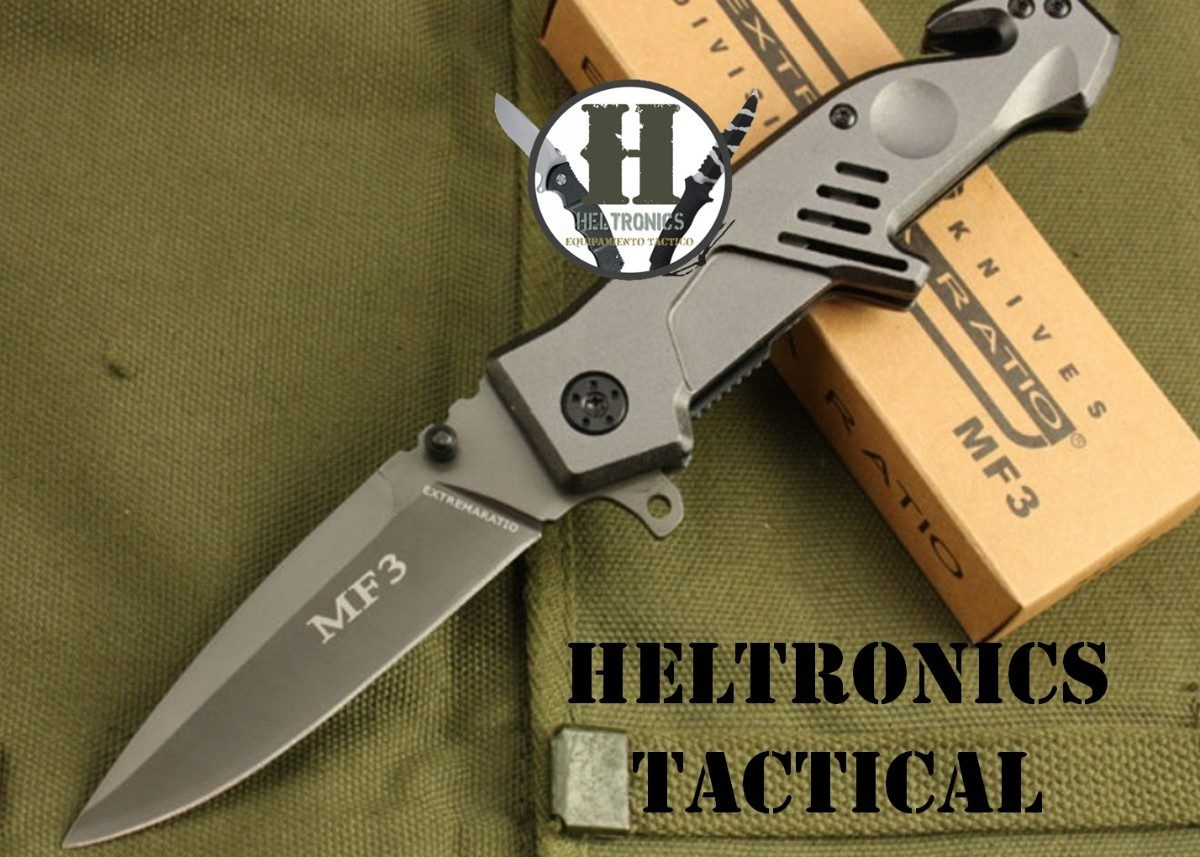knife: (40, 383, 552, 857)
